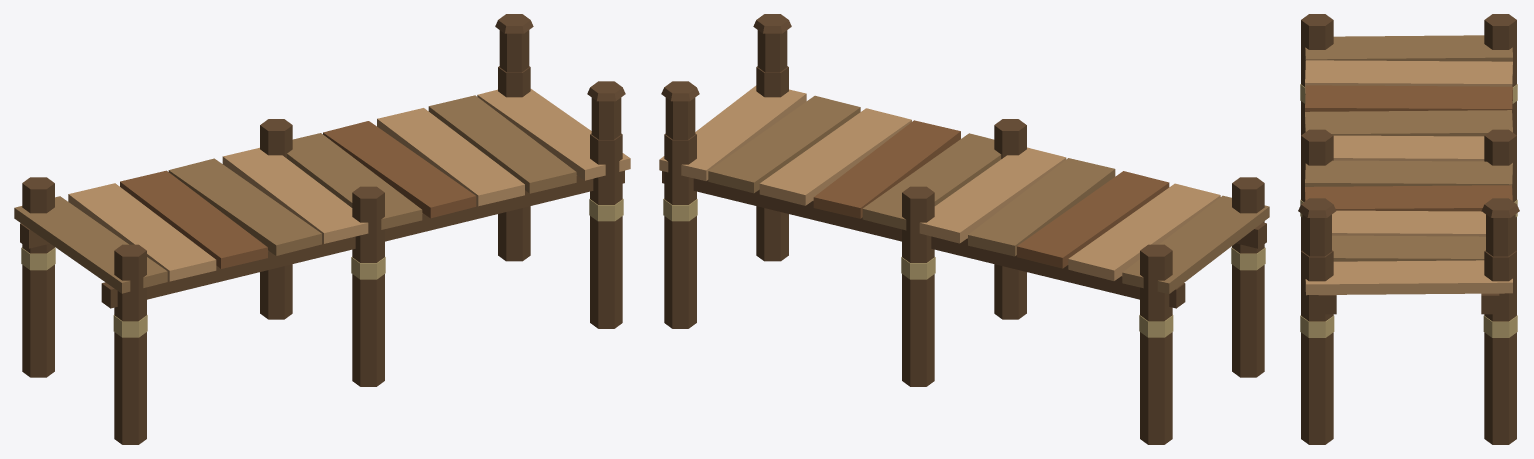
The model's file is Pier_4m.glb.
3 renders of one model, left to right at view 1: azimuth 30°, elevation 25°; view 2: azimuth 150°, elevation 25°; view 3: azimuth 270°, elevation 25°, orthographic.
Visible parts, largest first — view 1: Pier_4m; view 2: Pier_4m; view 3: Pier_4m.
Boxes of the visible parts, box(x1,y1,x2,y2) form: Pier_4m: box(14, 14, 630, 444); Pier_4m: box(659, 14, 1269, 444); Pier_4m: box(1298, 14, 1519, 444).
Size of the model in its own units: 4 by 1.75 by 1.5.
1 material, 1 textured.
